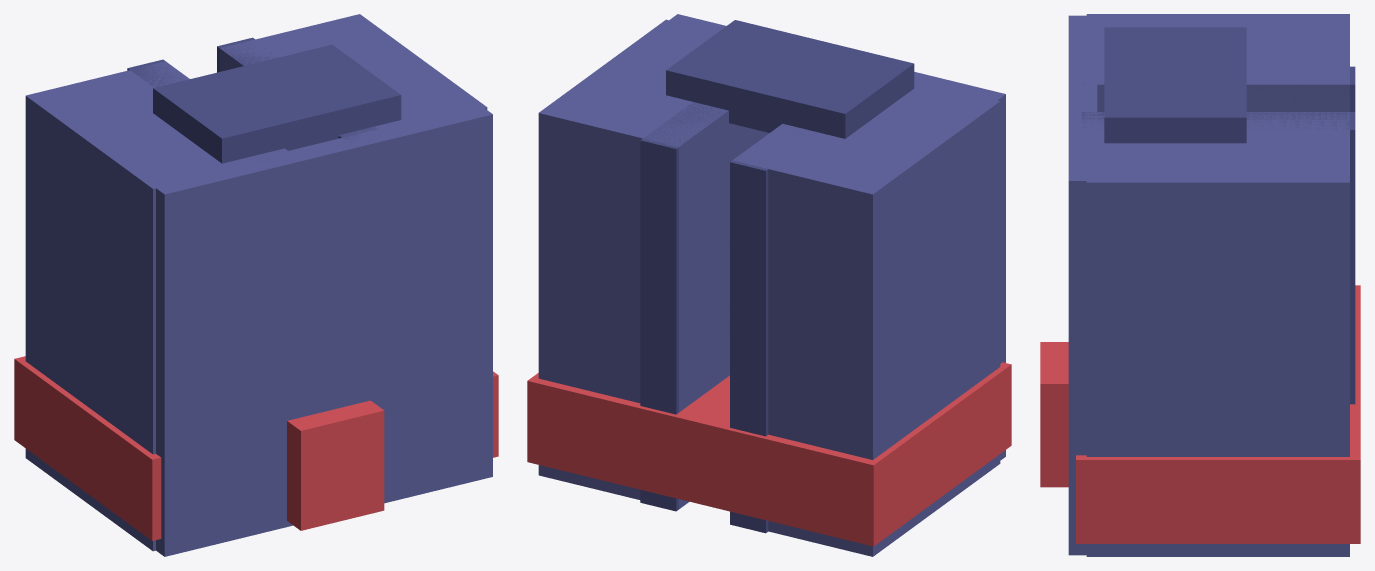
Rendered from kimono_tronco.glb.
3 renders of one model, left to right at view 1: azimuth 30°, elevation 25°; view 2: azimuth 150°, elevation 25°; view 3: azimuth 270°, elevation 25°, orthographic. The views are drawn at different scales.
Visible parts, largest first — view 1: kimono_tronco; view 2: kimono_tronco; view 3: kimono_tronco.
Boxes of the visible parts, left/top/right/bottom form: kimono_tronco: left=14, top=14, right=498, bottom=556; kimono_tronco: left=527, top=14, right=1011, bottom=556; kimono_tronco: left=1040, top=14, right=1360, bottom=556.
Bounding box in the file's own units: 0.58 × 0.62 × 0.45.
